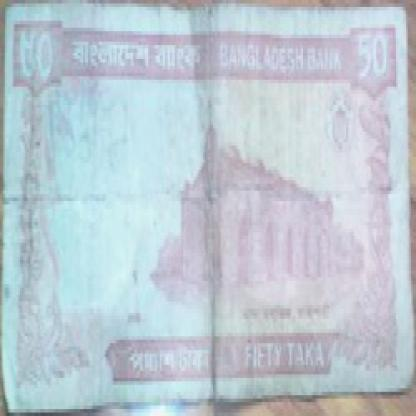Fifty taka: (8, 28, 70, 90), (348, 28, 392, 90)
